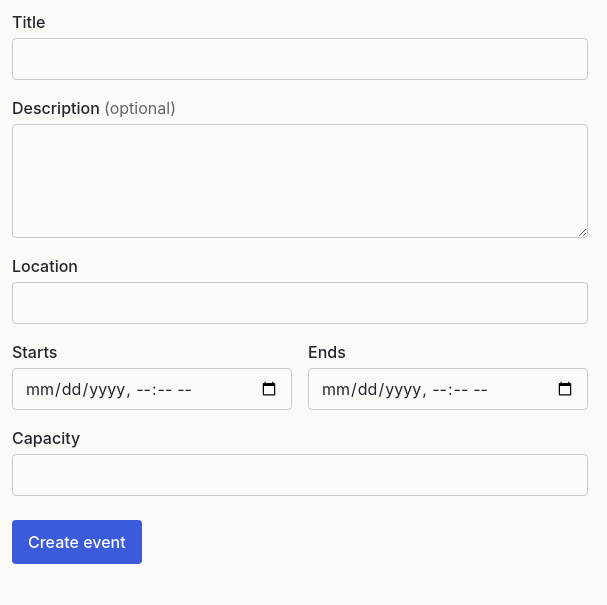
Scenario: EventForm › blocks submit when the end is before the start
Step 1. Type "Board games" into the field labelled "Title" → point(300, 59), box [12,38,588,80]
Step 2. Type "Library" into the field labelled "Location" → point(300, 303), box [12,282,588,324]
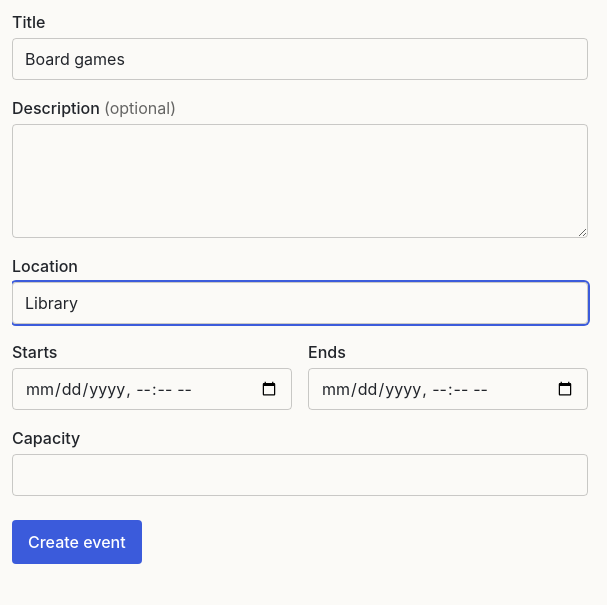
Step 3. Type "2026-11-14T18:00" into the field labelled "Starts" → point(152, 389), box [12,368,292,410]
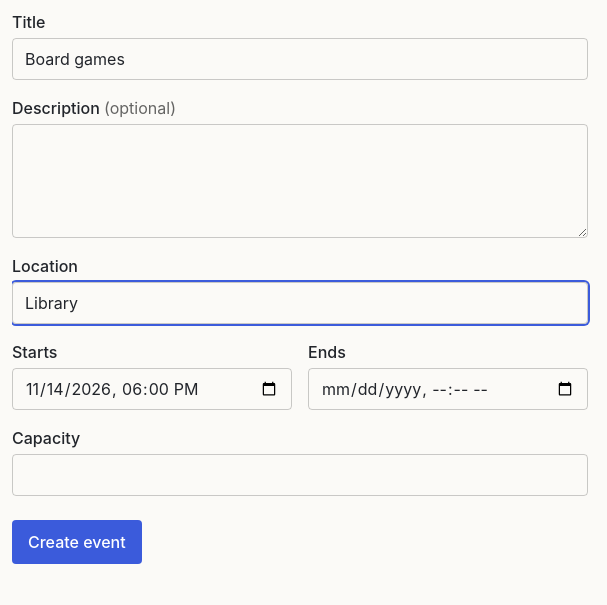
Step 4. Type "2026-11-14T21:00" into the field labelled "Ends" → point(448, 389), box [308,368,588,410]
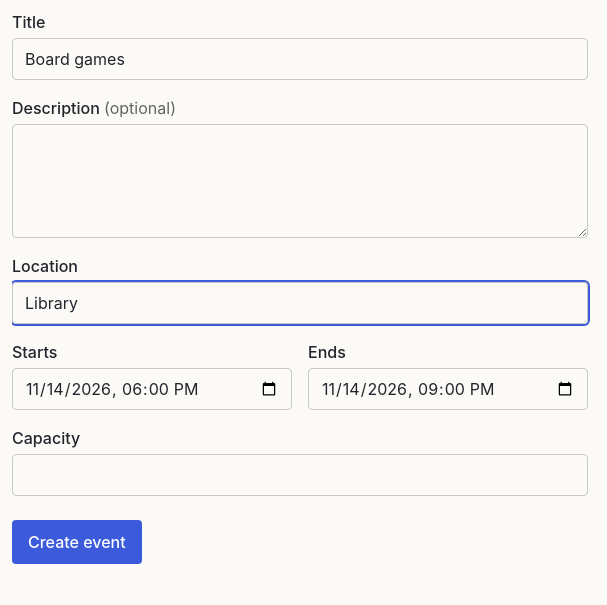
Step 5. Type "10" into the number field labelled "Capacity" → point(300, 475), box [12,454,588,496]
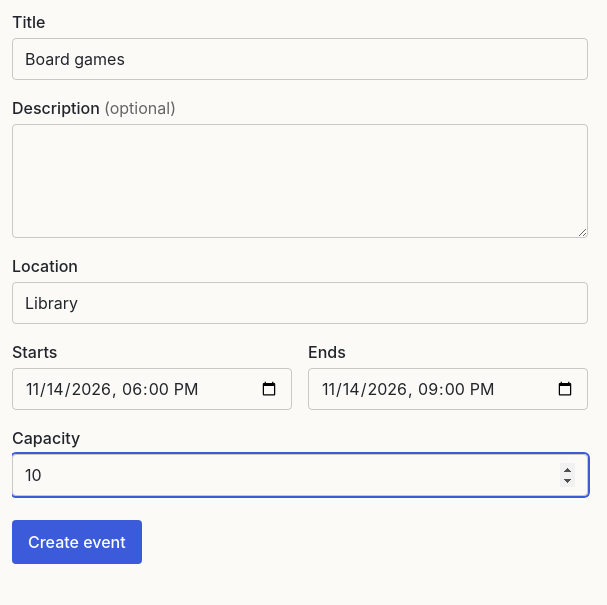
Step 6. Replace the text in the field labelled "Ends" with "2026-11-14T17:00" → point(448, 389), box [308,368,588,410]
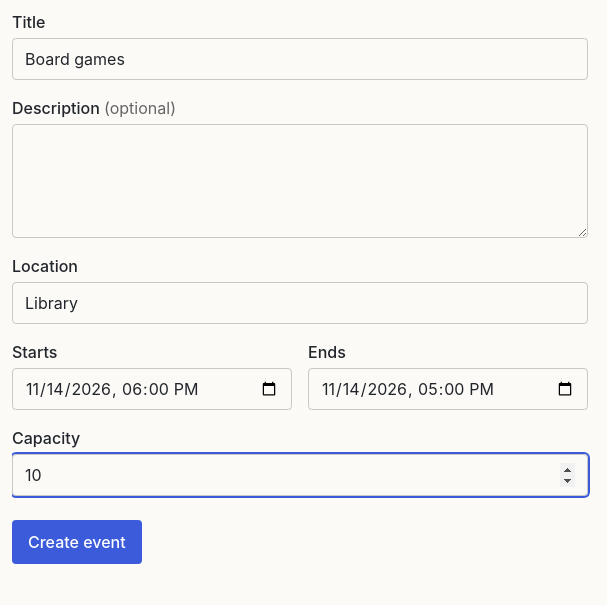
Step 7. Click the button "Create event" → point(77, 542), box [12,520,142,564]
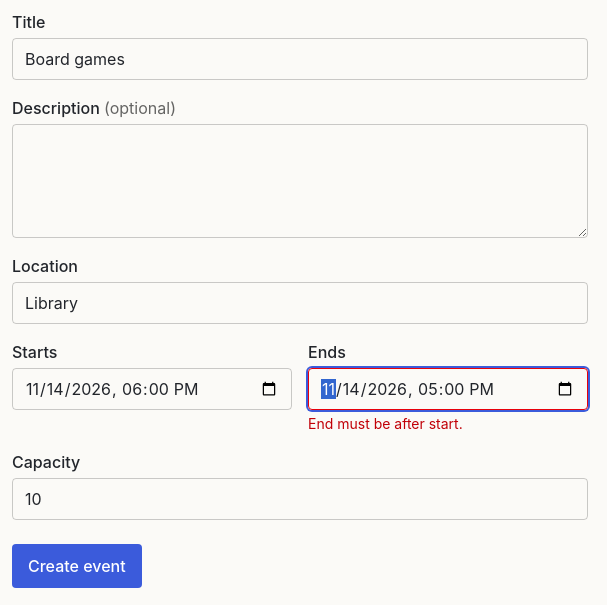
Check: the text "End must be after start." is shown, box [308,415,463,432]
